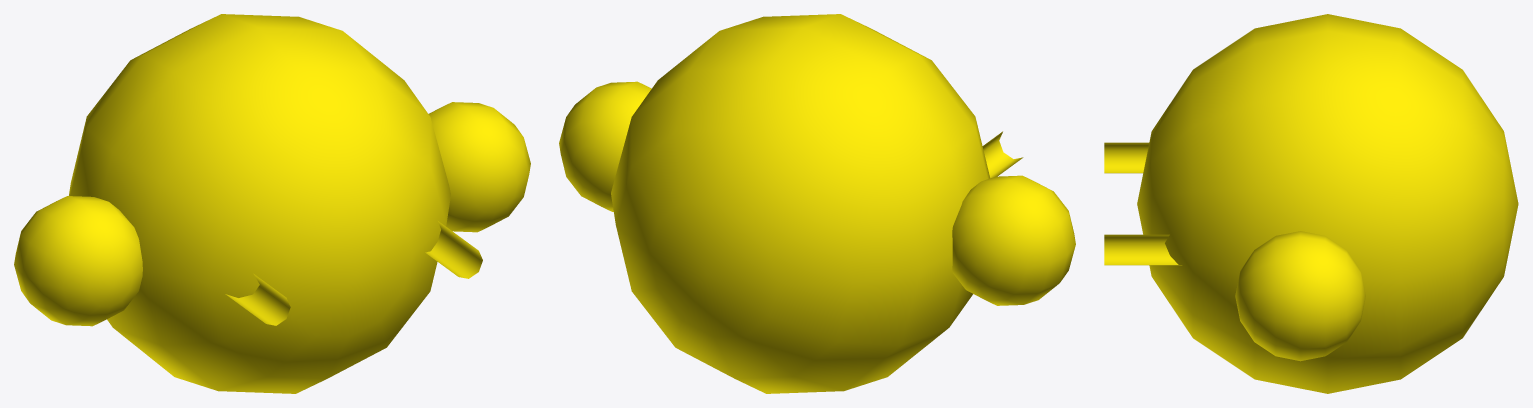
File: s13_gold.glb
The picture shows the model from 3 angles, left to right: view 1: azimuth 30°, elevation 25°; view 2: azimuth 150°, elevation 25°; view 3: azimuth 270°, elevation 25°; orthographic projection.
Parts seen in each view (by area): view 1: Blue Swimmer Crab; view 2: Blue Swimmer Crab; view 3: Blue Swimmer Crab.
Boxes of the visible parts, x1,y1,x2,y2 form: Blue Swimmer Crab: (14,14,530,393); Blue Swimmer Crab: (559,14,1075,393); Blue Swimmer Crab: (1104,14,1518,393).
Size of the model in its own units: 1.04 by 0.7 by 0.76.
